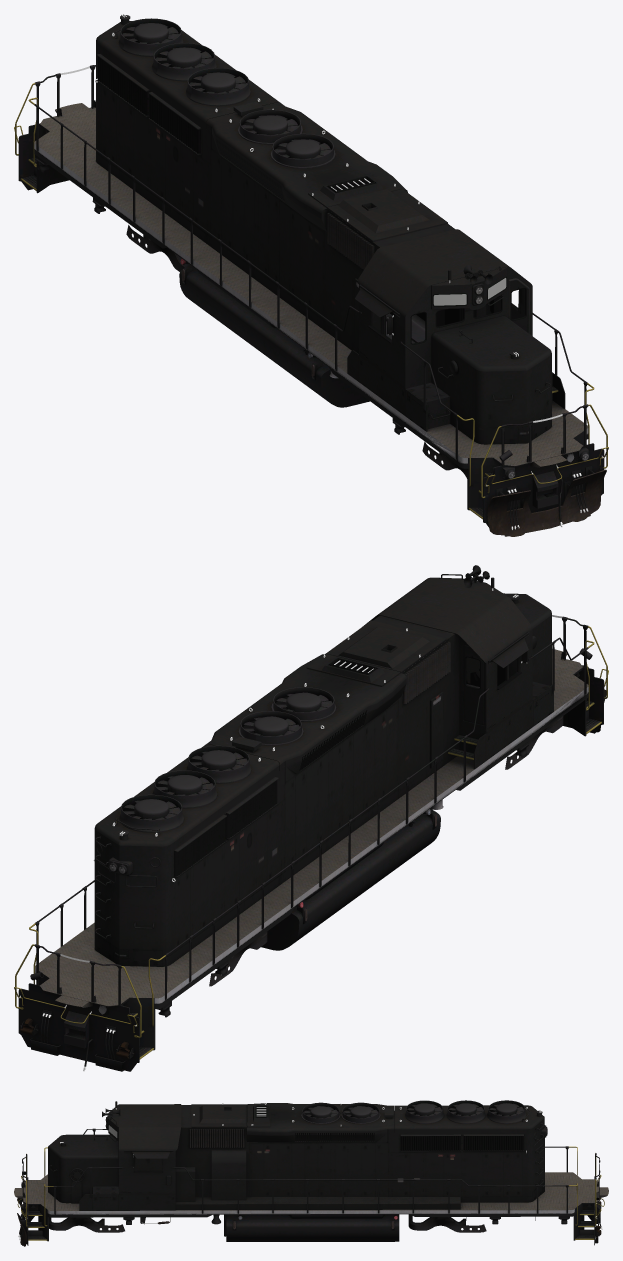
Rendered from body_black.glb.
3 renders of one model, top to bottom at view 1: azimuth 30°, elevation 25°; view 2: azimuth 150°, elevation 25°; view 3: azimuth 270°, elevation 25°, orthographic. The views are drawn at different scales.
Visible parts, largest first — view 1: Body; view 2: Body; view 3: Body.
Part boxes in pixels (<box>): Body: <box>14,14,608,536</box>; Body: <box>14,574,608,1071</box>; Body: <box>14,1100,608,1246</box>.
Bounding box in the file's own units: 3.65 × 4.91 × 20.77.
Materials: 10 (5 with a texture image).
